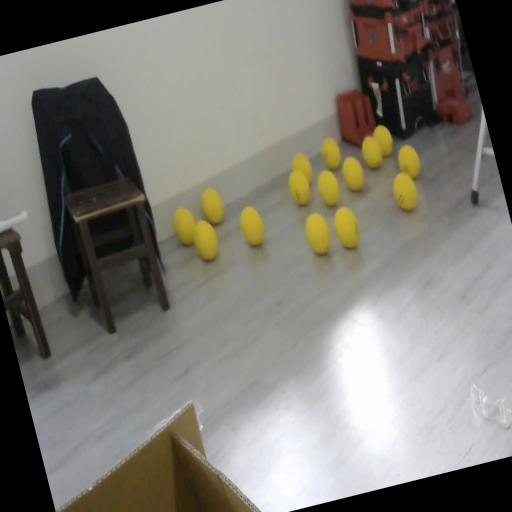FUEL: (329, 202, 364, 251), (301, 209, 335, 258), (188, 216, 222, 264), (236, 204, 268, 248), (390, 170, 422, 214), (170, 204, 201, 248), (394, 141, 424, 181), (314, 168, 343, 208), (198, 186, 227, 226), (340, 154, 368, 194), (288, 151, 316, 189), (318, 135, 344, 171), (371, 122, 397, 158)
